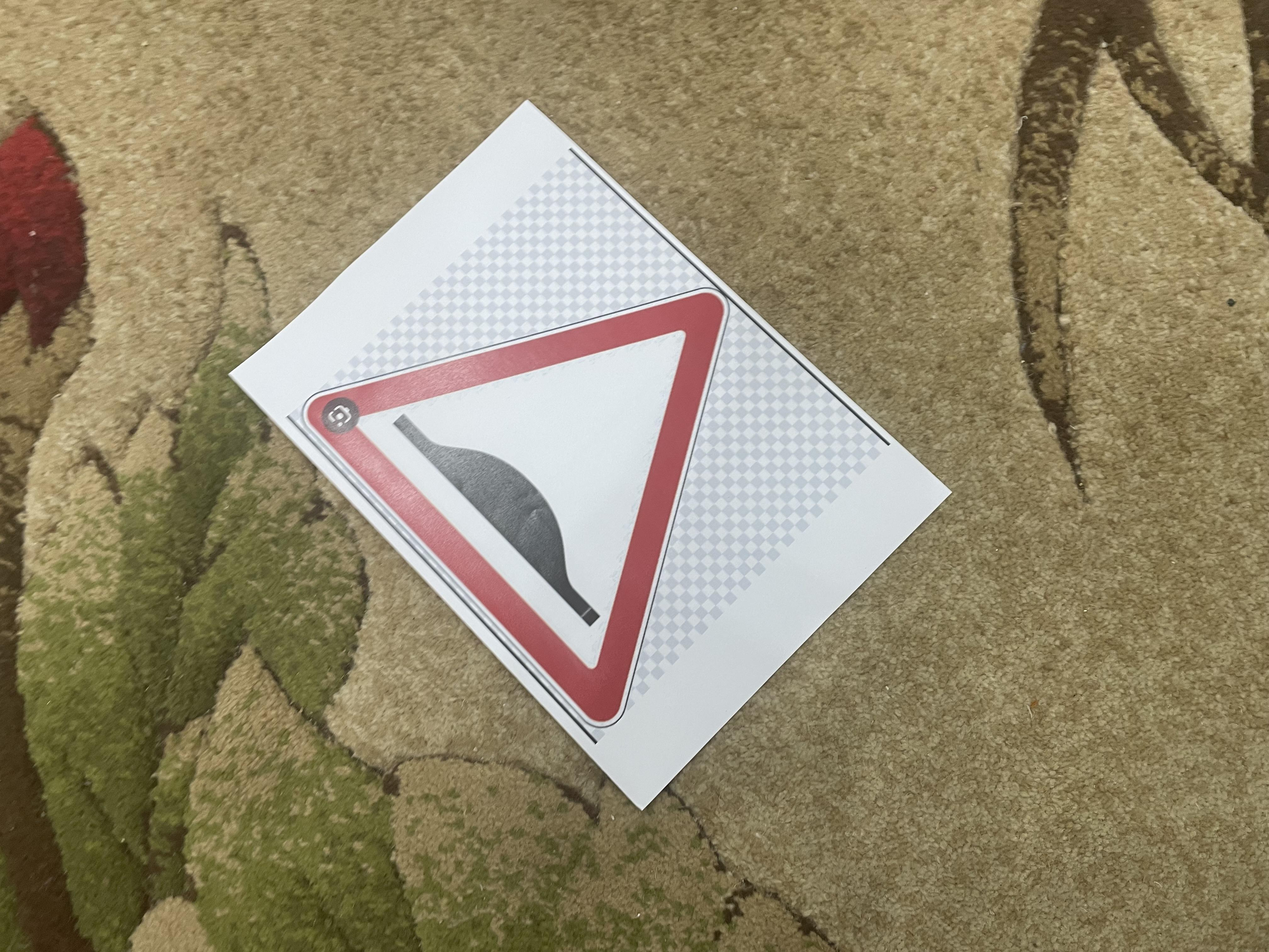Hump: (299, 282, 734, 740)
